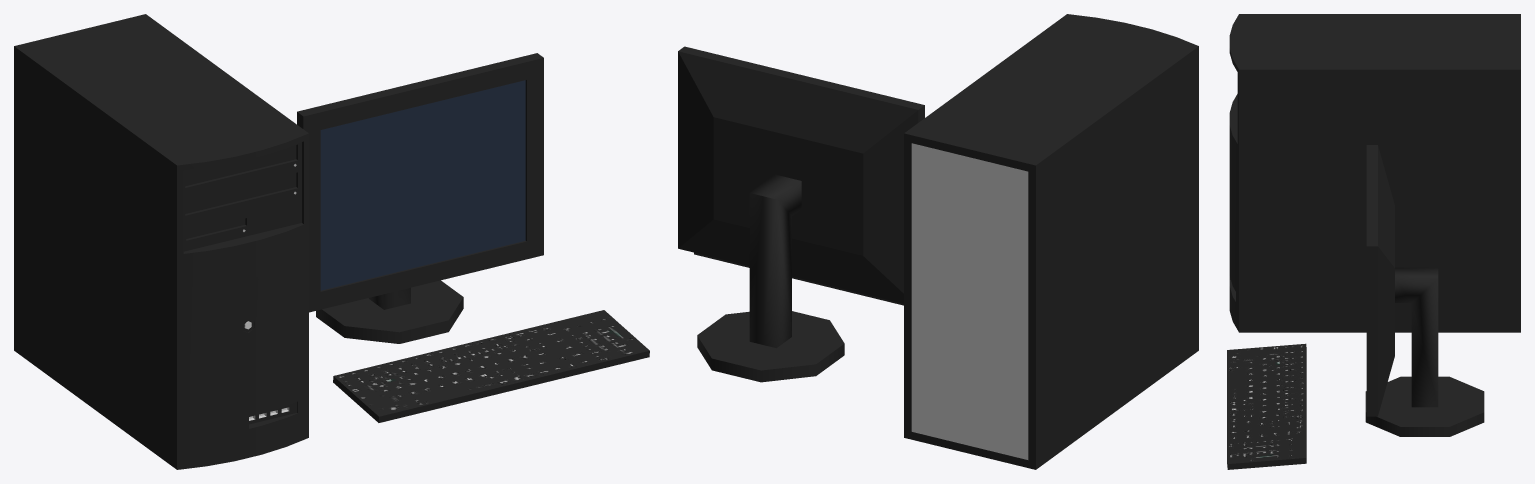
The model's file is pccompleto.fbx.
The picture shows the model from 3 angles, left to right: view 1: azimuth 30°, elevation 25°; view 2: azimuth 150°, elevation 25°; view 3: azimuth 270°, elevation 25°; orthographic projection. The views are drawn at different scales.
Visible parts, largest first — view 1: CPU, Model, Keyboard, Monitor_Half2, Monitor_Half1, drive2, drive1; view 2: CPU, Monitor_Half1, Monitor_Half2; view 3: CPU, Monitor_Half2, Keyboard, Monitor_Half1.
Part boxes in pixels (x1,y1,x2,y2): CPU: (14, 14, 308, 469); Model: (320, 80, 525, 290); Keyboard: (333, 310, 649, 422); Monitor_Half2: (397, 53, 543, 337); Monitor_Half1: (297, 82, 424, 343); drive2: (185, 172, 297, 215); drive1: (185, 144, 297, 187); CPU: (904, 14, 1198, 469); Monitor_Half1: (736, 76, 924, 382); Monitor_Half2: (678, 46, 804, 376); CPU: (1229, 14, 1520, 332); Monitor_Half2: (1365, 195, 1484, 436); Keyboard: (1227, 343, 1306, 469); Monitor_Half1: (1365, 145, 1484, 401).
Size of the model in its own units: 0.7811 by 0.4877 by 0.4936.
